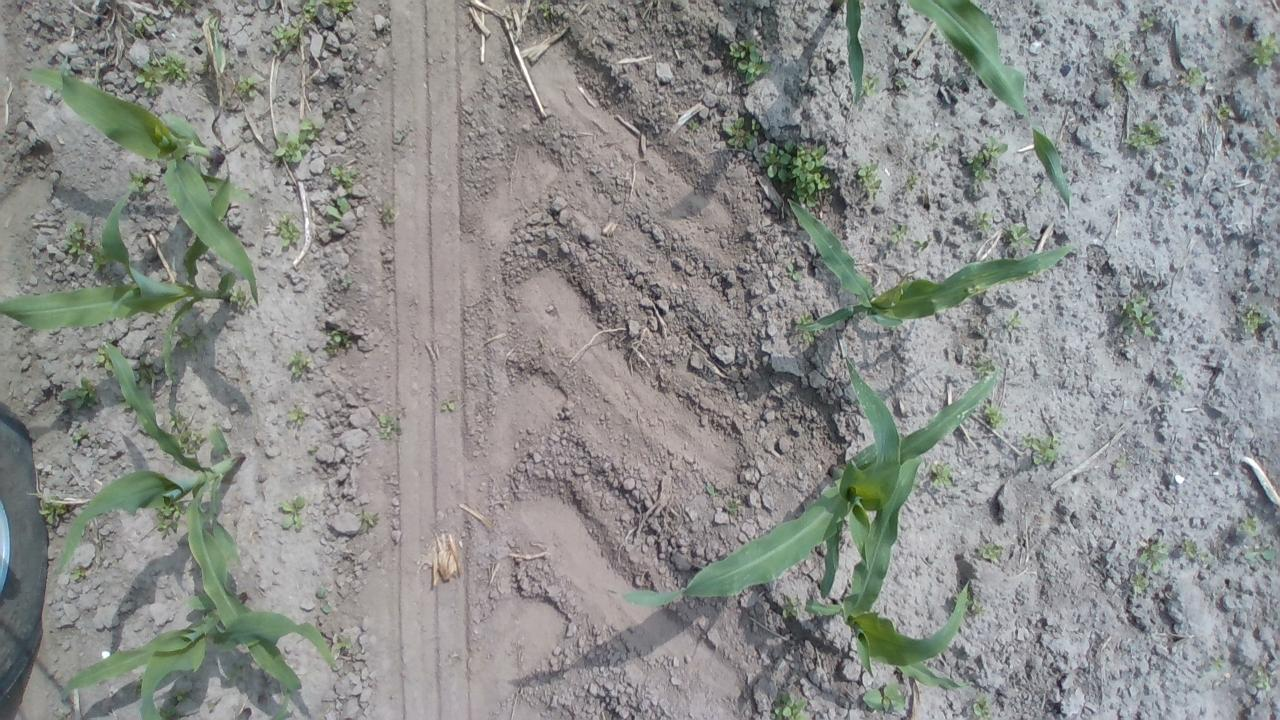Maize: (606, 354, 996, 608), (54, 340, 304, 693), (22, 53, 262, 310), (828, 0, 1071, 218), (0, 168, 235, 386), (804, 454, 972, 694), (787, 198, 1075, 334), (61, 591, 337, 720)
Weeds: (134, 49, 190, 96), (792, 142, 832, 207), (272, 118, 324, 164), (966, 135, 1009, 183), (729, 39, 770, 84), (1118, 293, 1158, 337), (168, 410, 206, 454), (59, 376, 102, 410), (1105, 43, 1138, 87), (761, 140, 795, 181), (861, 683, 904, 714), (1020, 434, 1060, 464), (770, 691, 810, 720), (155, 687, 190, 720), (270, 18, 302, 54), (1248, 33, 1280, 68), (1125, 121, 1163, 150), (723, 118, 759, 148), (156, 502, 186, 538), (856, 162, 882, 201), (64, 218, 91, 255), (178, 322, 208, 355), (1253, 127, 1280, 162), (1138, 544, 1169, 574), (1240, 303, 1268, 336), (278, 497, 306, 530), (328, 164, 358, 194), (38, 493, 67, 524), (274, 214, 301, 247), (325, 197, 351, 229), (92, 238, 115, 274), (952, 592, 986, 616), (135, 355, 158, 388), (983, 402, 1009, 431), (322, 328, 351, 354), (230, 284, 256, 312), (930, 462, 956, 487), (127, 170, 153, 195), (378, 412, 403, 437), (1007, 223, 1033, 247), (971, 693, 993, 720), (970, 208, 994, 232), (94, 346, 114, 373), (236, 74, 258, 98), (288, 349, 308, 375), (130, 14, 154, 35), (978, 542, 1003, 562), (1252, 666, 1272, 691), (1182, 67, 1206, 87), (974, 356, 996, 377), (322, 0, 355, 14), (782, 595, 802, 618), (316, 584, 331, 613), (890, 223, 910, 244), (1236, 517, 1258, 536), (860, 76, 880, 96), (286, 404, 306, 424), (1130, 572, 1149, 592), (70, 426, 88, 446), (226, 662, 246, 680), (1244, 549, 1276, 560), (302, 0, 318, 22), (382, 200, 396, 224), (360, 512, 378, 530), (1006, 312, 1022, 332), (117, 391, 132, 410), (1181, 540, 1197, 557), (336, 634, 354, 649), (904, 174, 918, 193), (786, 262, 800, 281), (1216, 103, 1230, 122), (1140, 16, 1155, 31), (1170, 375, 1184, 391), (923, 138, 941, 150), (724, 500, 738, 515), (796, 312, 813, 324), (132, 676, 141, 698), (538, 1, 551, 16), (71, 567, 84, 581), (442, 396, 455, 410), (1162, 175, 1172, 192), (198, 57, 208, 74), (686, 119, 698, 132), (802, 330, 815, 342), (912, 240, 928, 249), (1200, 552, 1214, 562), (1211, 659, 1222, 670), (1114, 87, 1122, 101), (706, 484, 716, 495), (206, 700, 216, 711), (342, 276, 353, 286), (895, 78, 905, 88), (1116, 457, 1126, 467), (170, 0, 182, 7), (190, 31, 199, 40), (396, 133, 404, 142), (94, 439, 100, 450)
